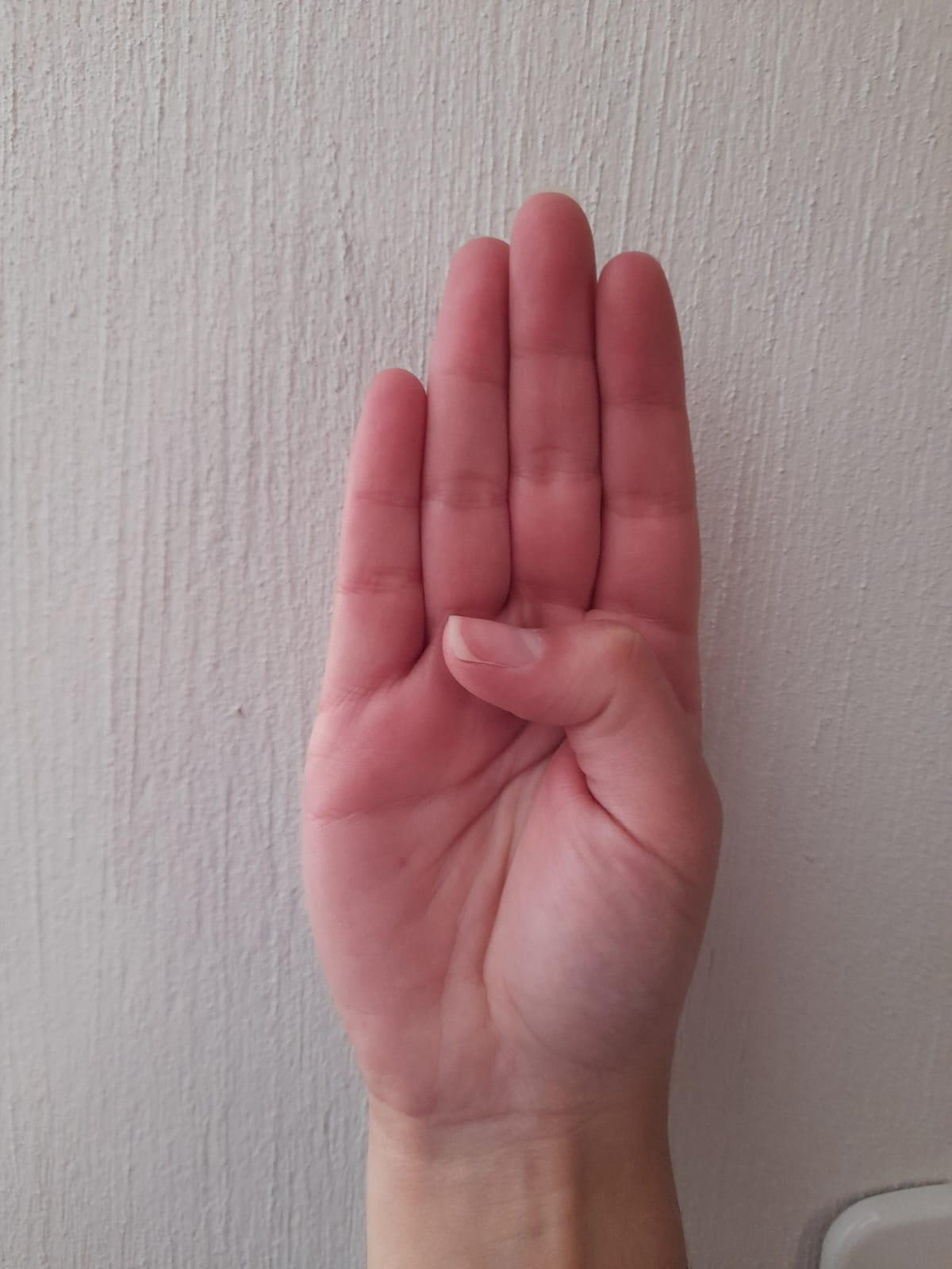B: (214, 174, 789, 1225)
